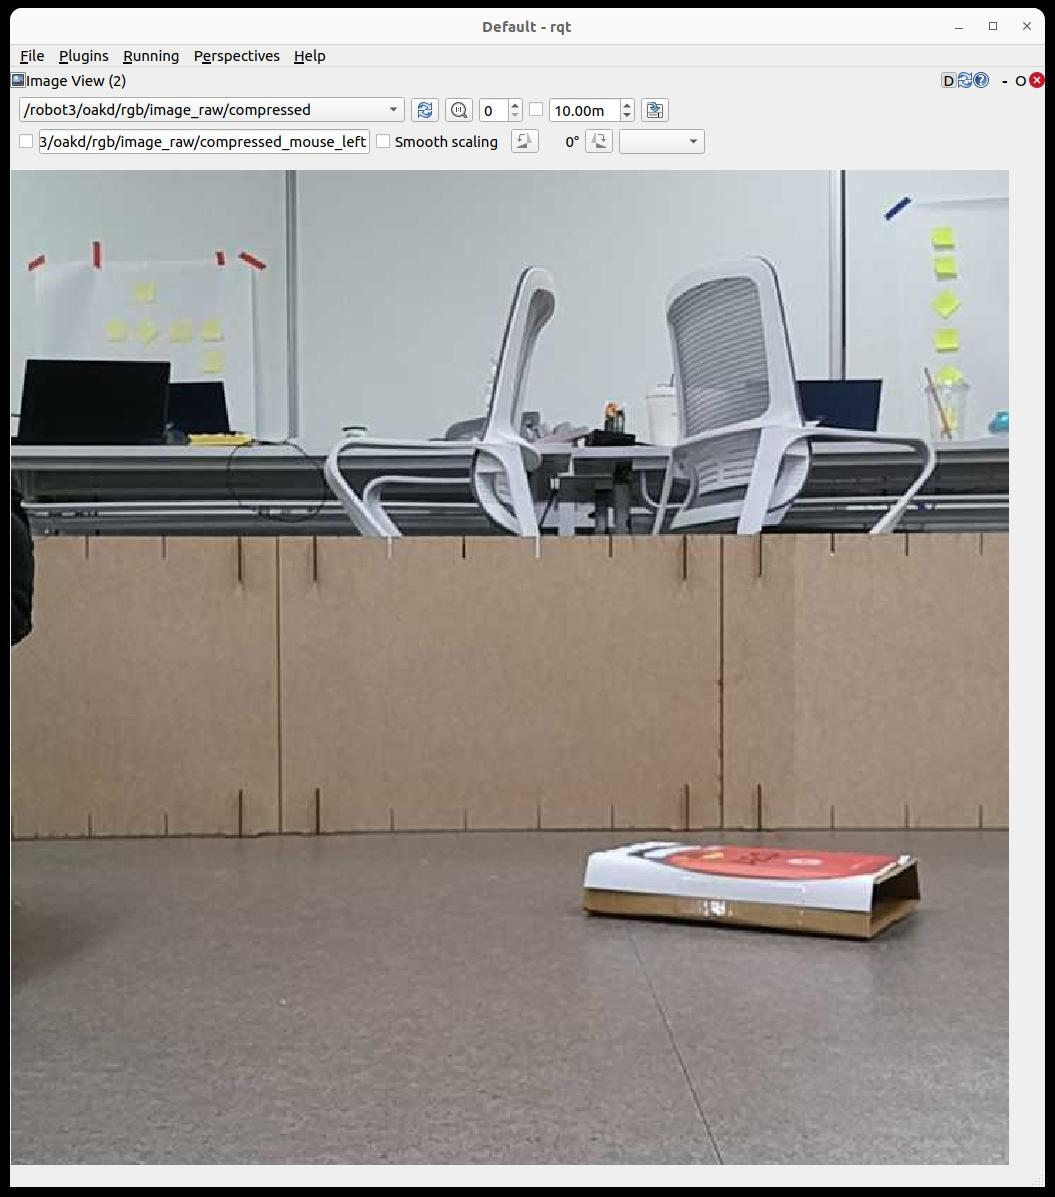AED: (583, 842, 920, 939)
